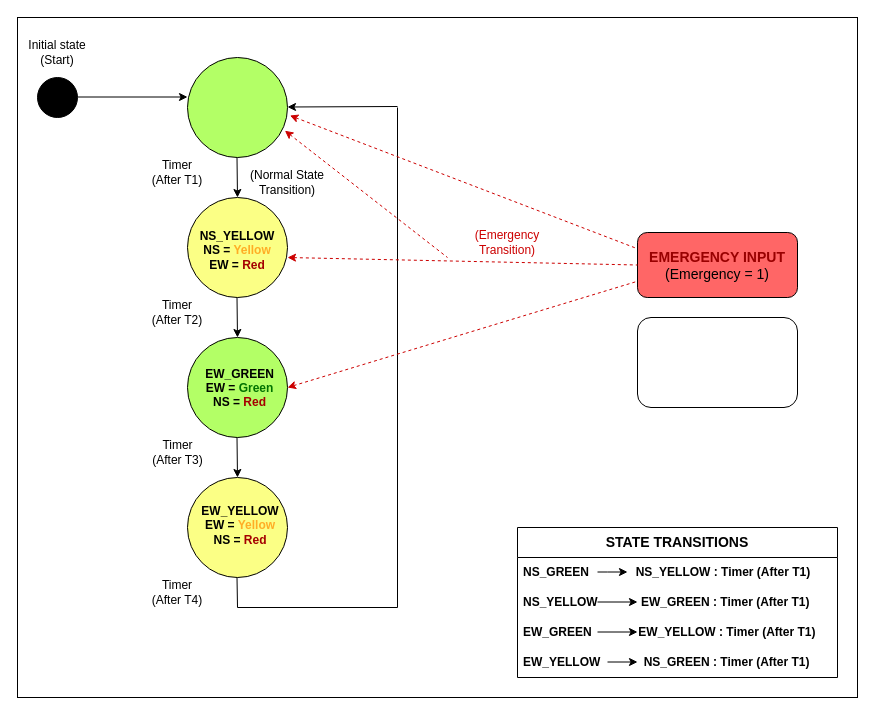
Some shapes in this 875 by 715 pixel diagram are drawn without their labels. Here are the shapes that lost their labels. From the top down, the box of each, then its label:
(186, 56, 288, 158): NS_GREEN NS = Green EW = Red
(636, 316, 798, 408): Emergency overrides current states and forces system to NS_GREEN state.
